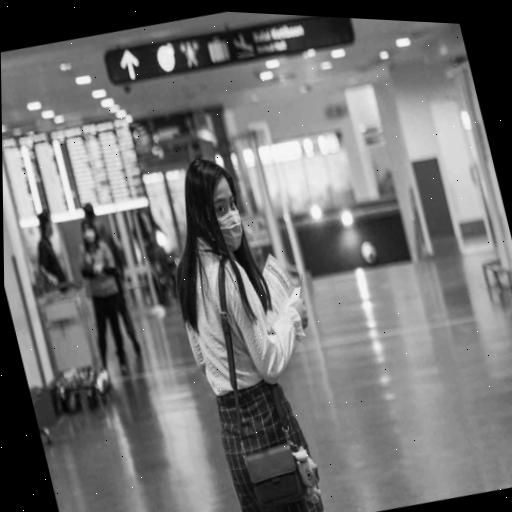mask: (170, 145, 255, 267), (73, 212, 102, 252)
